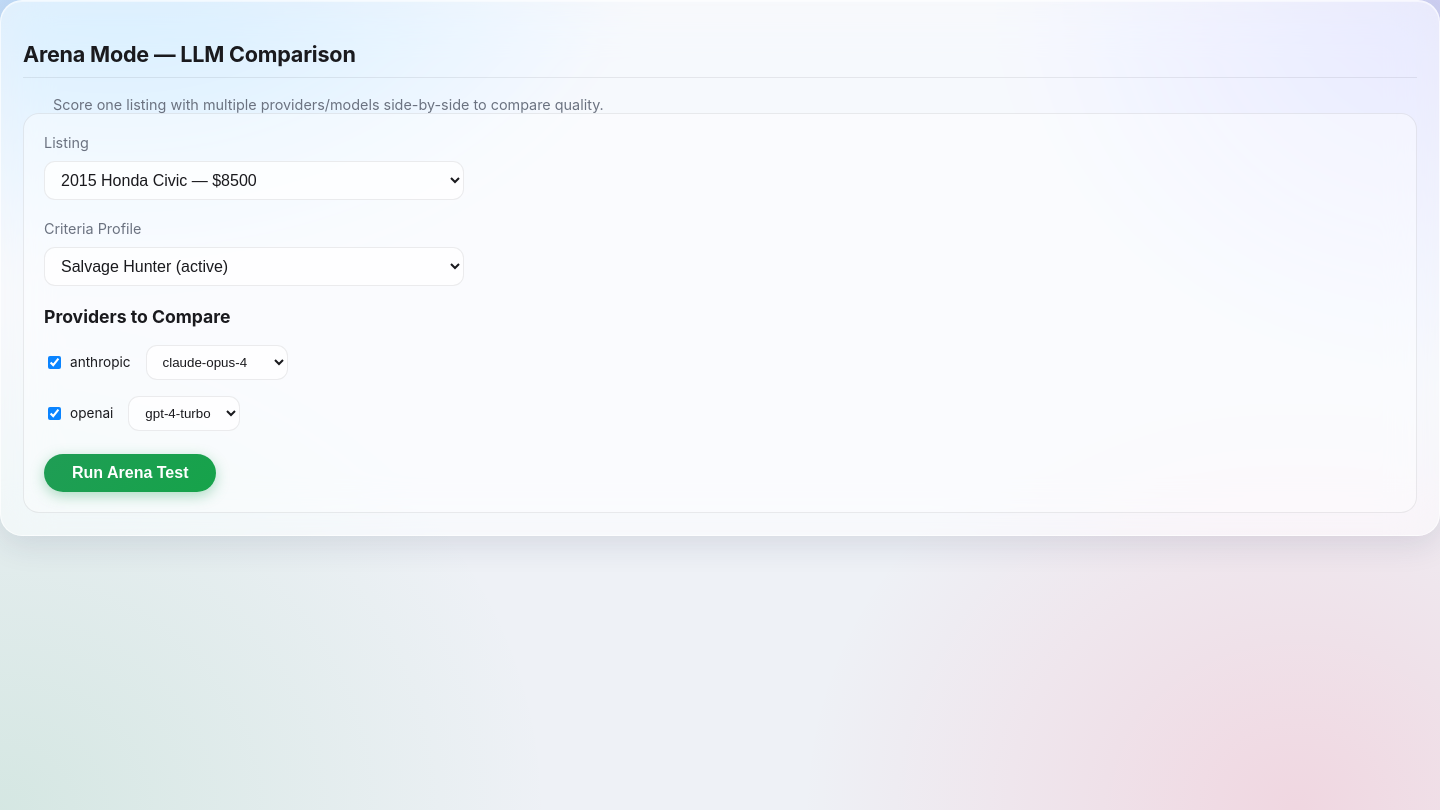
ArenaTab › shows error when run fails
Expected: the heading "Arena Mode — LLM Comparison" is shown, [23, 41, 1417, 78]
Click the button "Run Arena Test".
click(130, 473)  # box [44, 454, 216, 492]
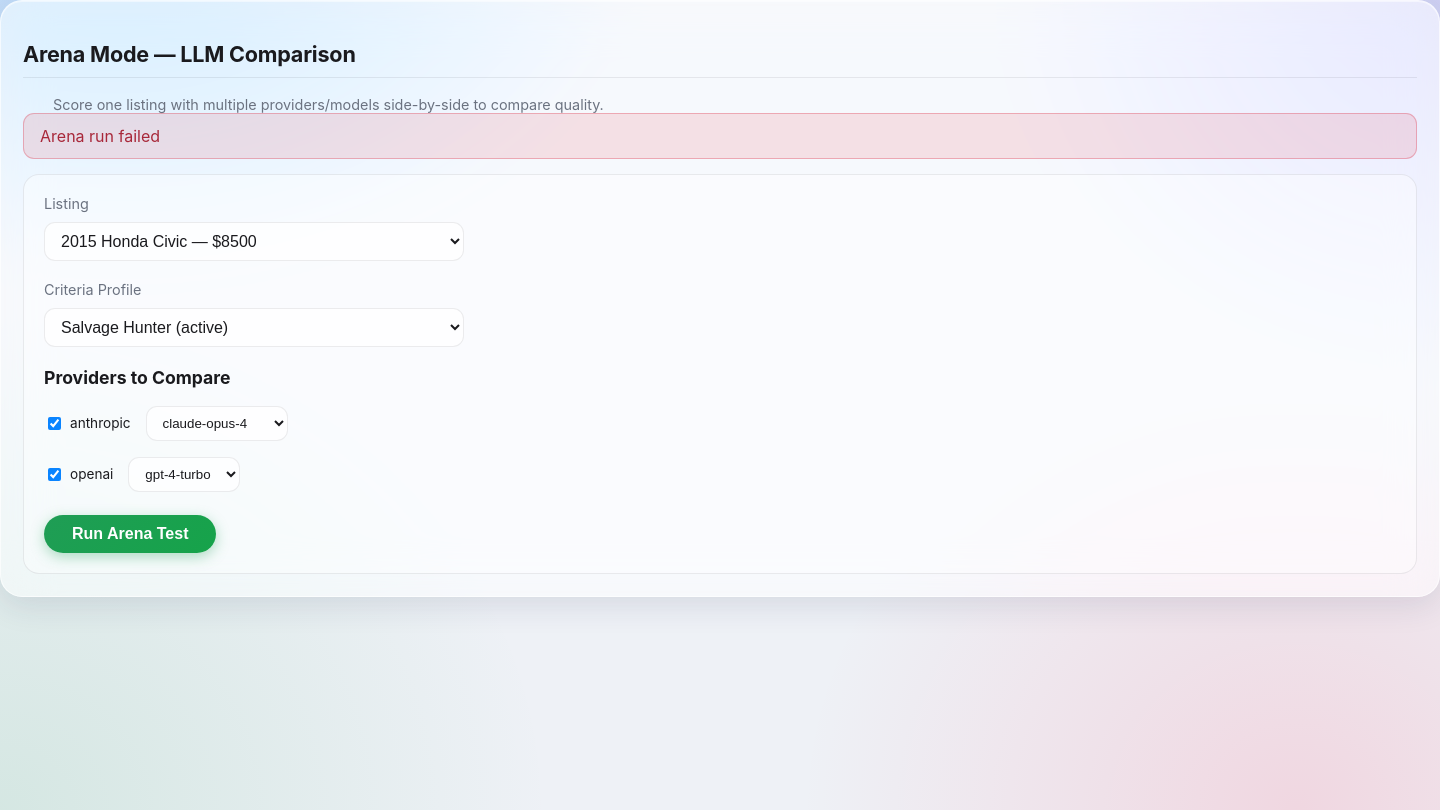
Now the text "Arena run failed" is shown, box [23, 113, 1417, 159]
